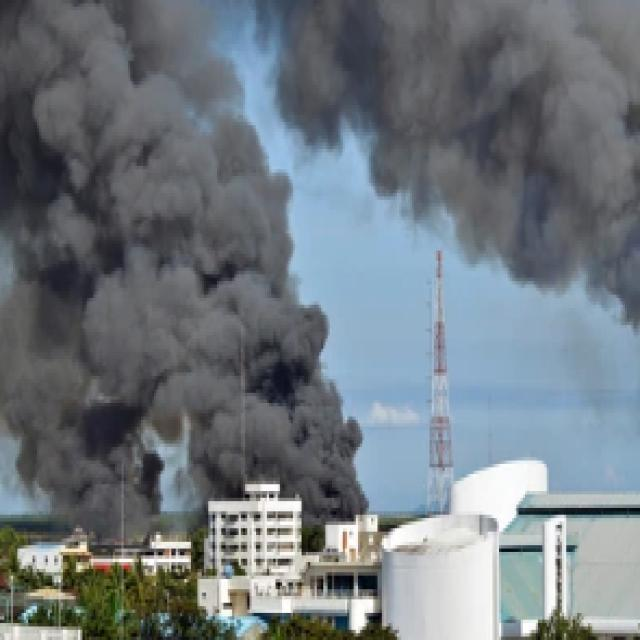Smoke: (1, 5, 356, 512), (293, 0, 640, 278)
